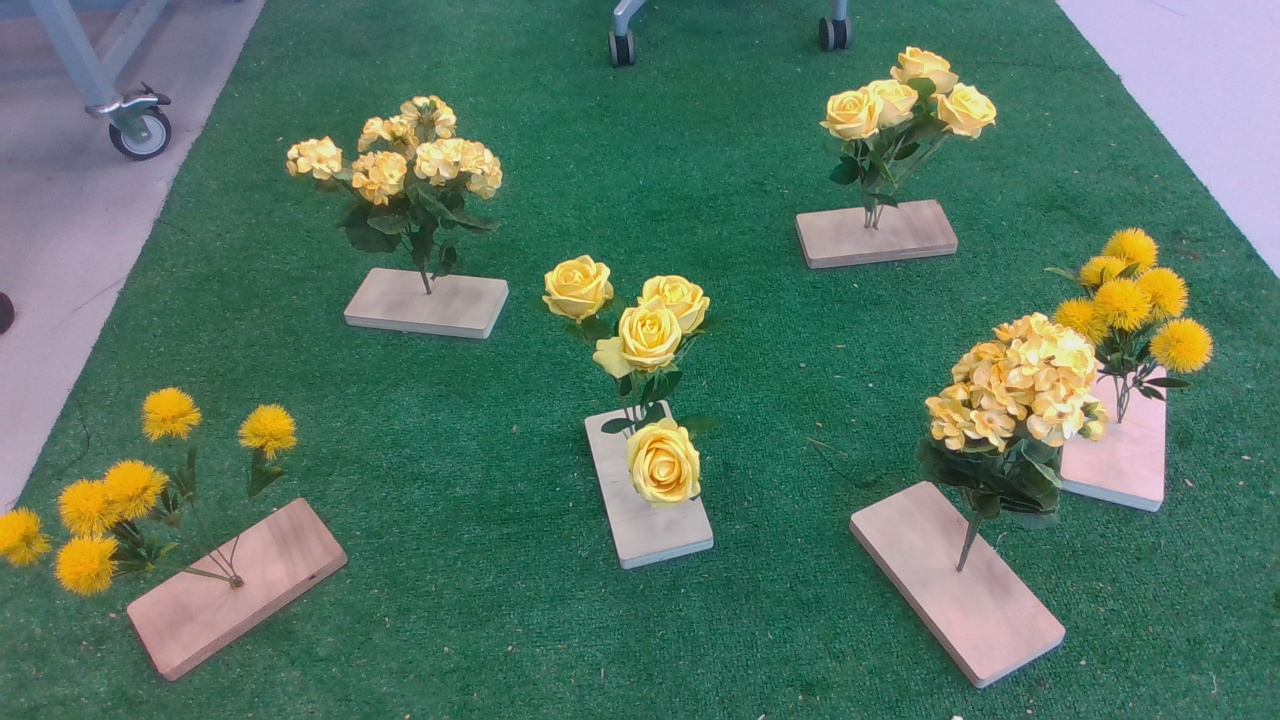dandelion: (2, 385, 319, 607), (1092, 223, 1223, 376)
geranium: (281, 89, 512, 272), (913, 317, 1113, 500)
rose: (535, 253, 723, 512), (812, 46, 1008, 199)
